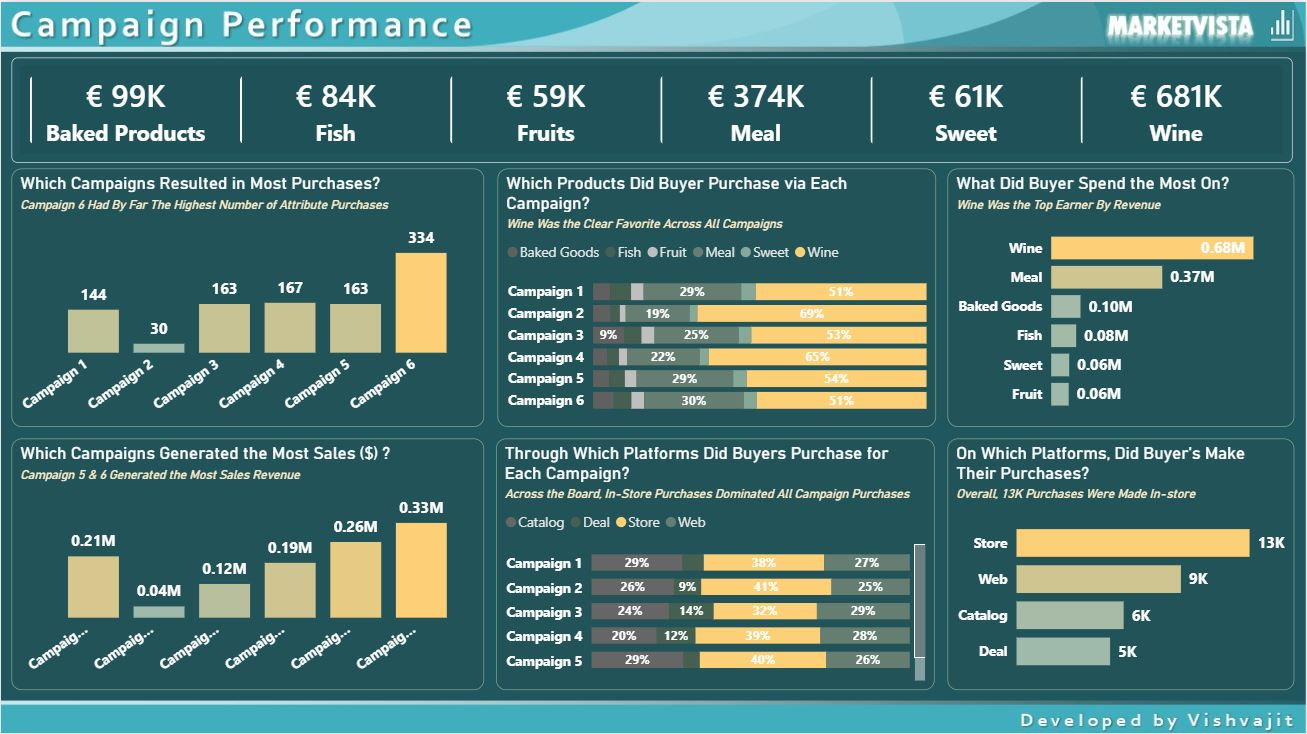

Layout of this report page (visuals, bound fields, positions):
{"tool":"powerbi","page":{"name":"Campaign Performance","canvas":[1280,720],"ordinal":1},"visuals":[{"type":"clusteredColumnChart","title":"Which Campaigns Resulted in Most Purchases?","fields":{"Category":["campaign.Campaign"],"Y":["Sum(campaign.Accepted_IND)"]},"box":[11,163.8,463.1,253.6],"z":0},{"type":"clusteredColumnChart","title":"Which Campaigns Generated the Most Sales ($) ?","fields":{"Category":["campaign.Campaign"],"Y":["Sum(products.Total Sales)"]},"box":[10,428.3,463.3,246.7],"z":1000},{"type":"hundredPercentStackedBarChart","title":"Which Products Did Buyer Purchase via Each Campaign?","fields":{"Category":["campaign.Campaign"],"Y":["Sum(products.Total Sales)"],"Series":["products.Product"]},"box":[486.7,163.8,430,253.6],"z":2000},{"type":"clusteredBarChart","title":"What Did Buyer Spend the Most On?","fields":{"Category":["products.Product"],"Y":["Sum(products.Total Sales)"]},"box":[927.7,163.8,340.2,253.6],"z":3000},{"type":"hundredPercentStackedBarChart","title":"Through Which Platforms Did Buyers Purchase for Each Campaign?","fields":{"Category":["campaign.Campaign"],"Y":["Sum(platform.Qty)"],"Series":["platform.Platform"]},"box":[486,428.3,430,246.7],"z":4000},{"type":"clusteredBarChart","title":"On Which Platforms, Did Buyer''s Make Their Purchases?","fields":{"Category":["platform.Platform"],"Y":["Sum(platform.Qty)"]},"box":[928.3,428.3,340,246.7],"z":5000},{"type":"cardVisual","fields":{"Data":["Sum(marketing_data.Amount_Baked_Products)","Sum(marketing_data.Amount_Fish_Products)","Sum(marketing_data.Amount_Fruit_Products)","Sum(marketing_data.Amount_Meal_Products)","Sum(marketing_data.Amount_Sweet_Products)","Sum(marketing_data.Amount_Wine_Products)"]},"box":[10.1,54.7,1255.7,103.3],"z":6000}]}

Visuals, with their boxes in screenshot pixels (x1, y1, x2, y2), scaled from the page's 1280x720 canvas onto the 1307x734 screenshot:
"Which Campaigns Resulted in Most Purchases?" clusteredColumnChart: pyautogui.locateOnScreen(11, 167, 484, 426)
"Which Campaigns Generated the Most Sales ($) ?" clusteredColumnChart: pyautogui.locateOnScreen(10, 437, 483, 688)
"Which Products Did Buyer Purchase via Each Campaign?" hundredPercentStackedBarChart: pyautogui.locateOnScreen(497, 167, 936, 426)
"What Did Buyer Spend the Most On?" clusteredBarChart: pyautogui.locateOnScreen(947, 167, 1295, 426)
"Through Which Platforms Did Buyers Purchase for Each Campaign?" hundredPercentStackedBarChart: pyautogui.locateOnScreen(496, 437, 935, 688)
"On Which Platforms, Did Buyer''s Make Their Purchases?" clusteredBarChart: pyautogui.locateOnScreen(948, 437, 1295, 688)
cardVisual - Sum(marketing_data.Amount_Baked_Products) x Sum(marketing_data.Amount_Fish_Products): pyautogui.locateOnScreen(10, 56, 1293, 161)
